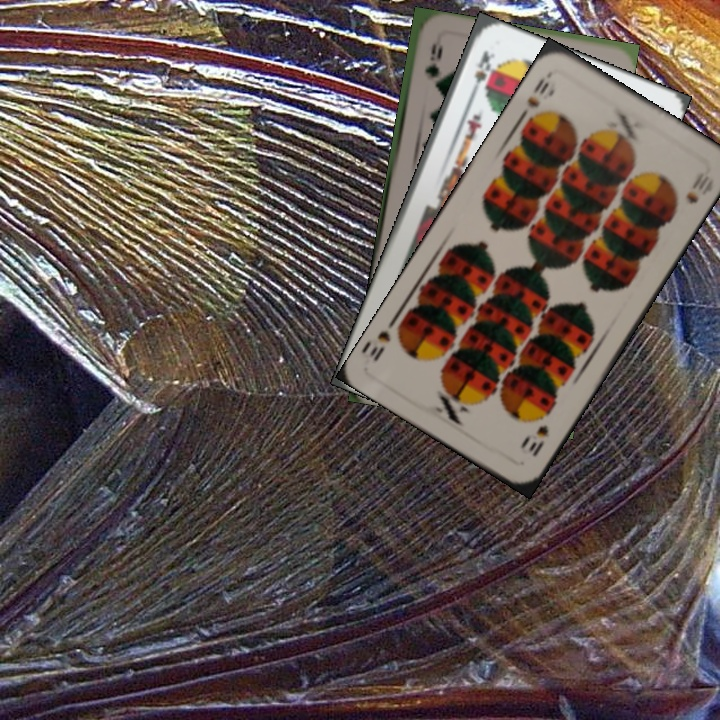G9: (421, 39, 442, 81)
S10: (516, 74, 552, 121), (519, 420, 551, 460)
SK: (466, 46, 499, 100)
